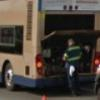buses: (0, 0, 100, 96)
